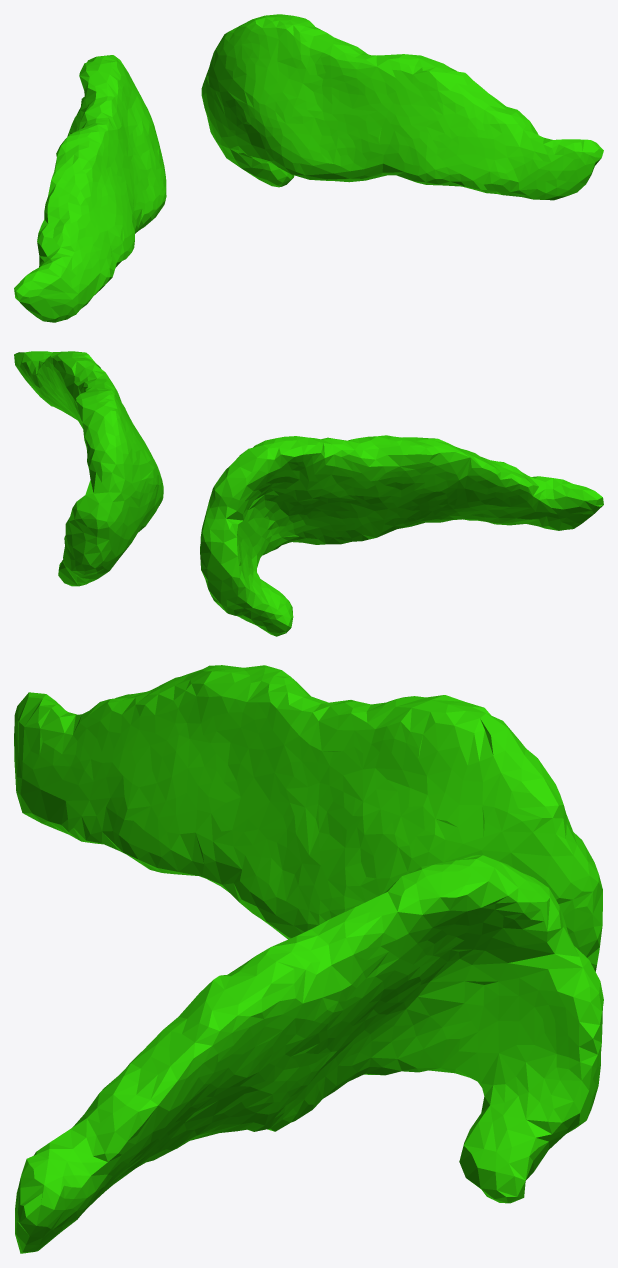
Rendered from 40-PEa-parietal area PEa-('0.2275', '1.0000', '0.0000').obj.
The picture shows the model from 3 angles, top to bottom: view 1: azimuth 30°, elevation 25°; view 2: azimuth 150°, elevation 25°; view 3: azimuth 270°, elevation 25°; orthographic projection. The views are drawn at different scales.
Size of the model in its own units: 264 by 77.42 by 127.
